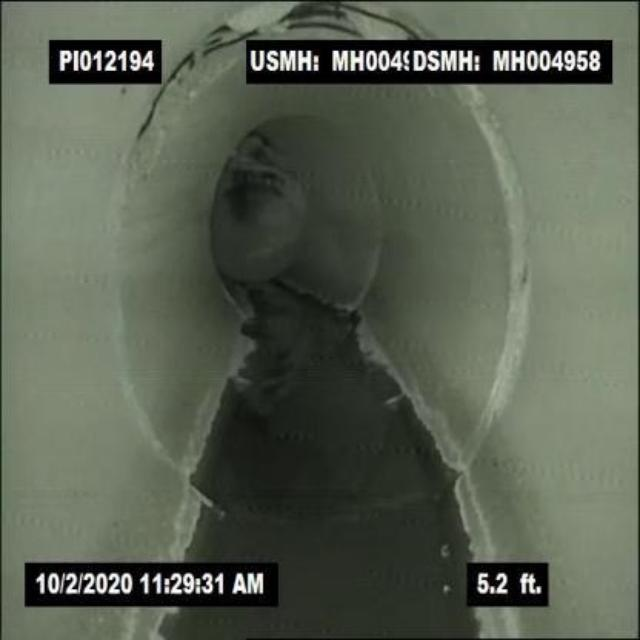Joint offset: (458, 95, 568, 522), (178, 2, 435, 37), (169, 34, 245, 146)
